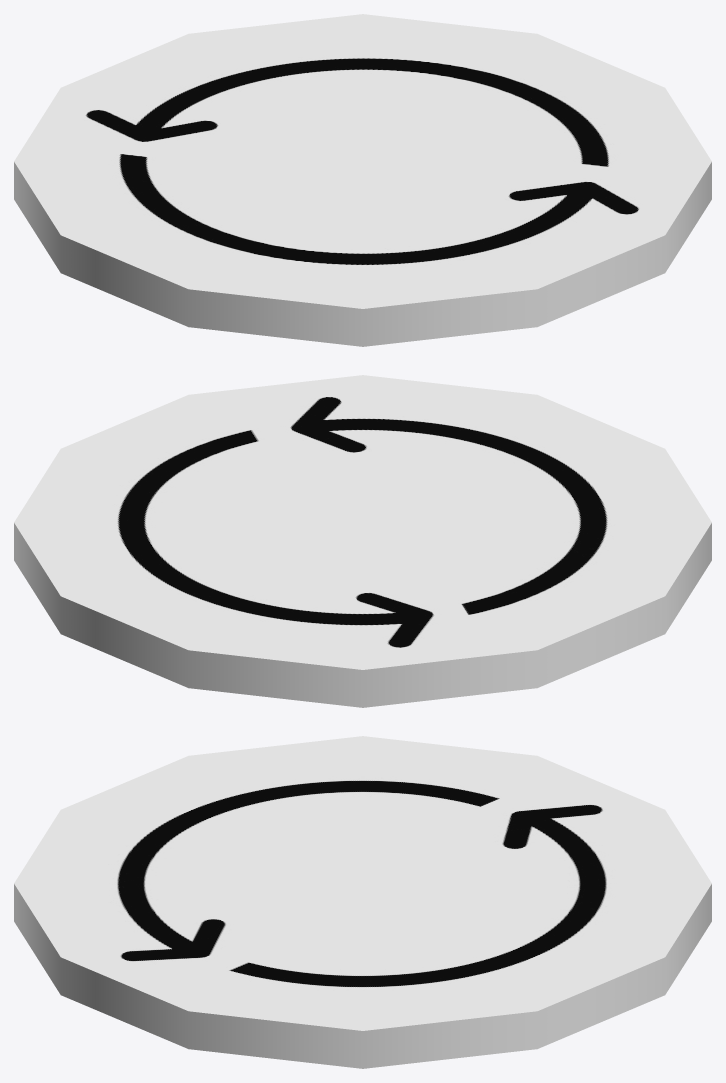
The model's file is SM_UpDownPillar.fbx.
The picture shows the model from 3 angles, top to bottom: view 1: azimuth 30°, elevation 25°; view 2: azimuth 150°, elevation 25°; view 3: azimuth 270°, elevation 25°; orthographic projection.
Parts seen in each view (by area): view 1: SM_UpDownPillar; view 2: SM_UpDownPillar; view 3: SM_UpDownPillar.
Boxes of the visible parts, x1,y1,x2,y2 form: SM_UpDownPillar: [14, 14, 711, 346]; SM_UpDownPillar: [14, 375, 711, 707]; SM_UpDownPillar: [14, 736, 711, 1068].
Bounding box in the file's own units: 259 × 15.53 × 259.
